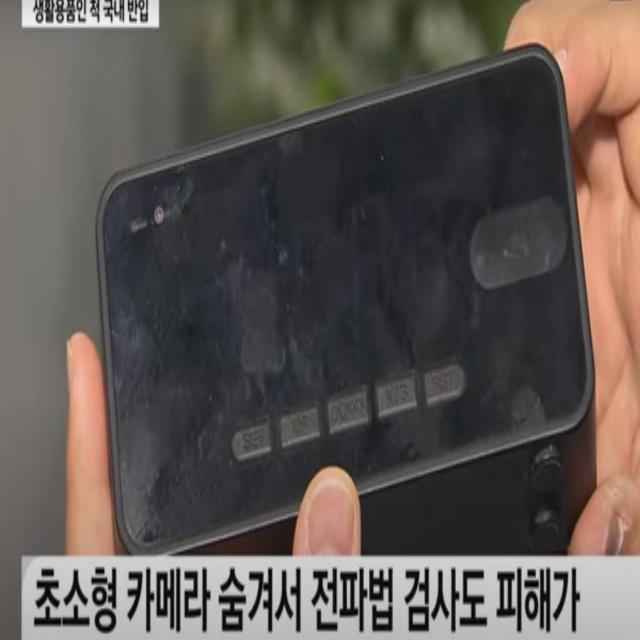hidden camera: (153, 202, 166, 225)
